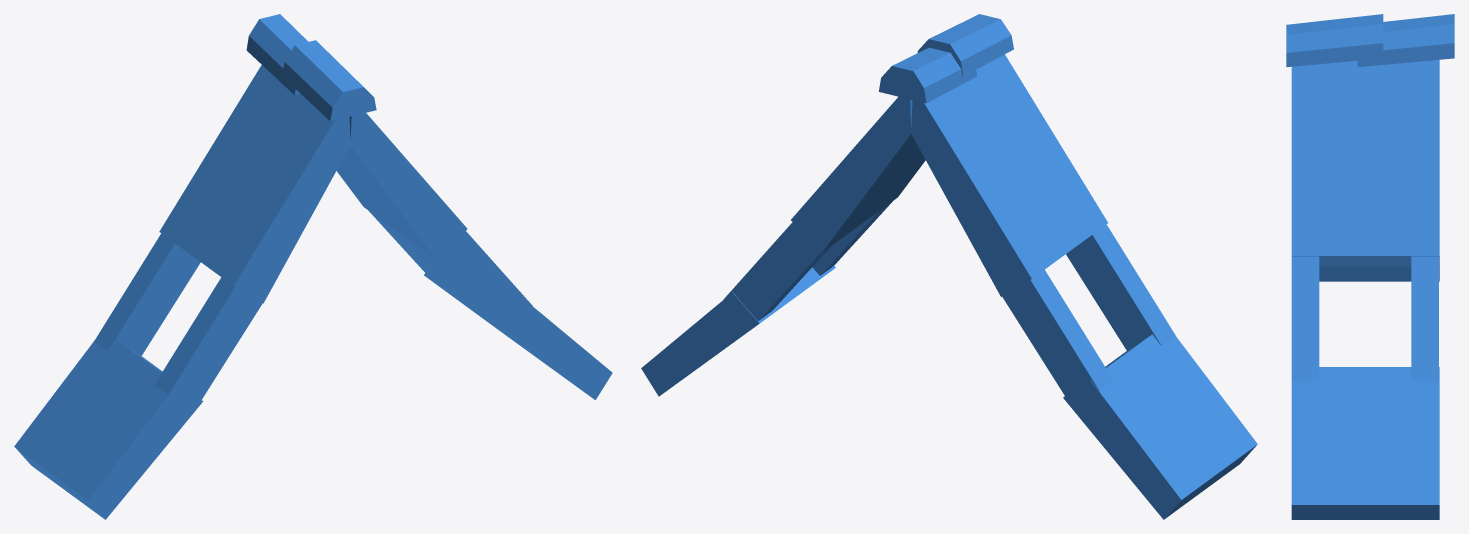
Rendered from Collision_Roof_Modular_FlatTiles_6_Dormer.fbx.
3 renders of one model, left to right at view 1: azimuth 30°, elevation 25°; view 2: azimuth 150°, elevation 25°; view 3: azimuth 270°, elevation 25°, orthographic. The views are drawn at different scales.
Visible parts, largest first — view 1: UCX_Roof_Modular_FlatTiles_6_Dormer_01; view 2: UCX_Roof_Modular_FlatTiles_6_Dormer_01; view 3: UCX_Roof_Modular_FlatTiles_6_Dormer_01.
Part boxes in pixels (x1,y1,x2,y2): UCX_Roof_Modular_FlatTiles_6_Dormer_01: [14, 14, 612, 519]; UCX_Roof_Modular_FlatTiles_6_Dormer_01: [641, 14, 1257, 519]; UCX_Roof_Modular_FlatTiles_6_Dormer_01: [1286, 14, 1454, 519].
Size of the model in its own units: 810 by 566 by 226.
